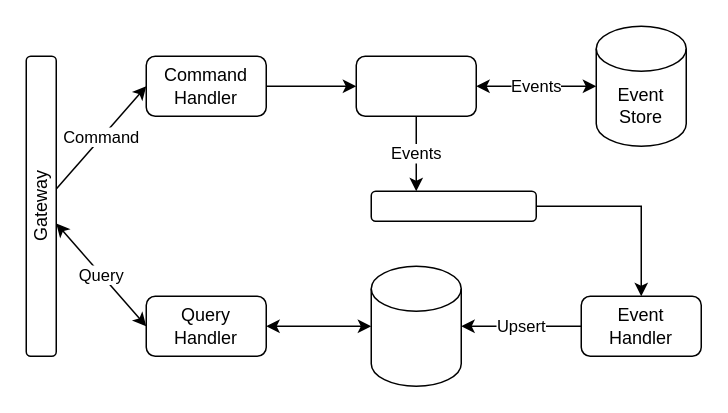
Some shapes in this 728 by 413 pixel diagram are drawn without their labels. The centre of each missing label's shape, as x and y in pixels:
"Domain Model" belongs at [415,85].
"Event Bus" belongs at [453,205].
"Read DB" belongs at [415,325].
